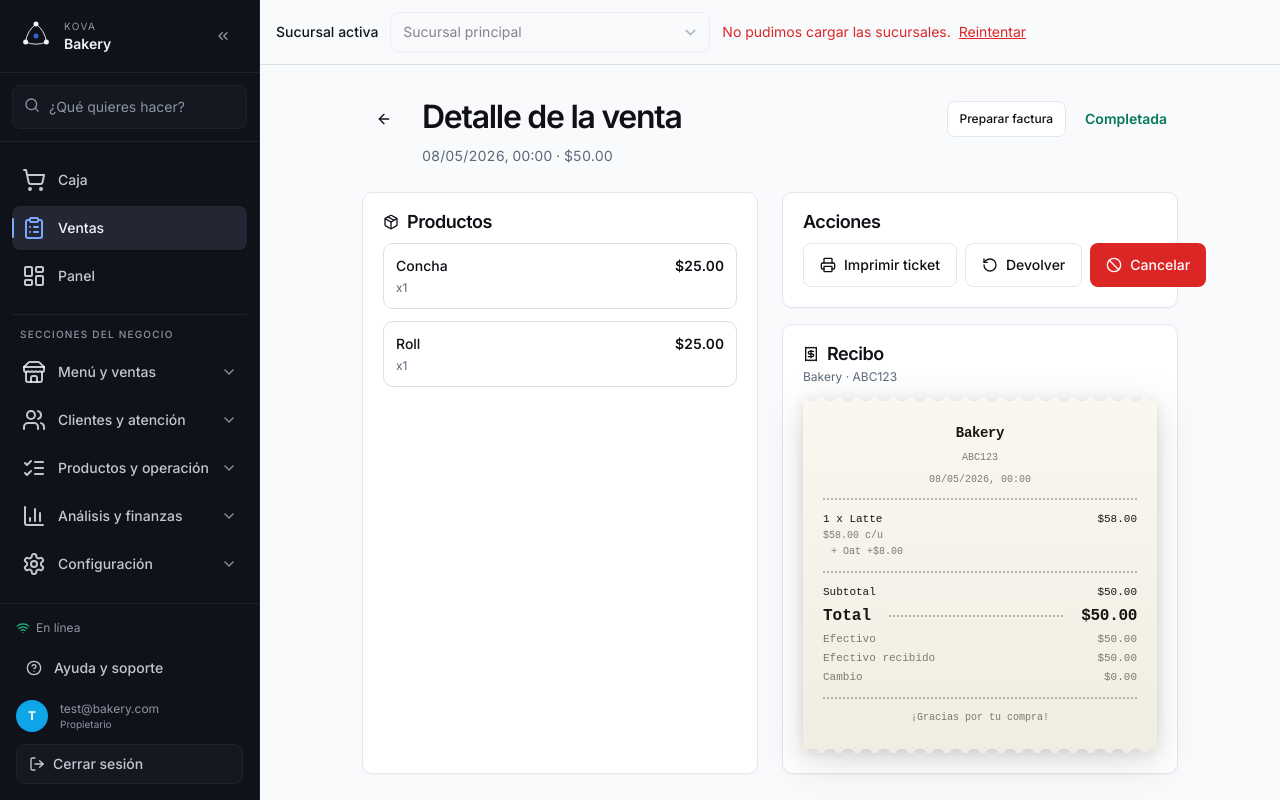
Scenario: OrderDetail › submits a refund and reloads the receipt
Click the button "Devolver": coordinates (1024, 265) [965,243,1082,287]
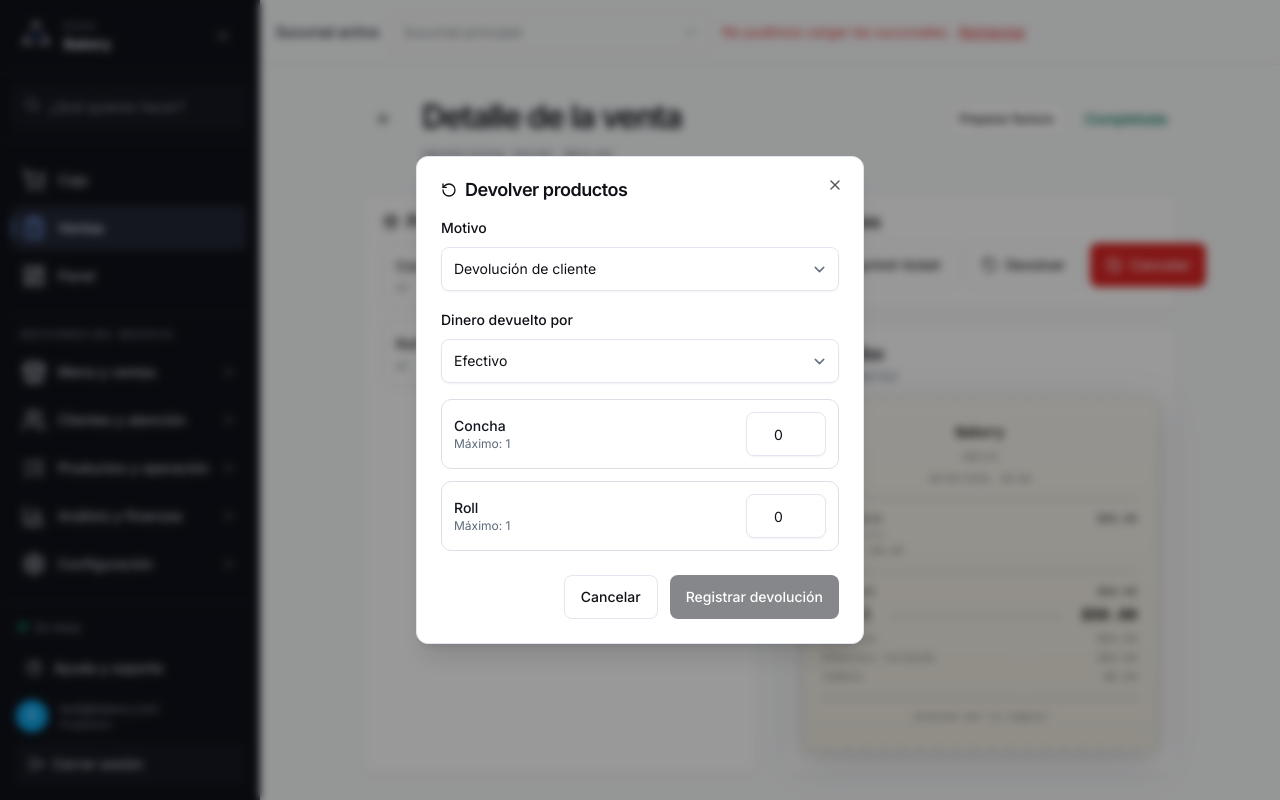
Replace the text in the number field named "Concha Cantidad" with "1": coordinates (786, 434) [746,412,826,456]
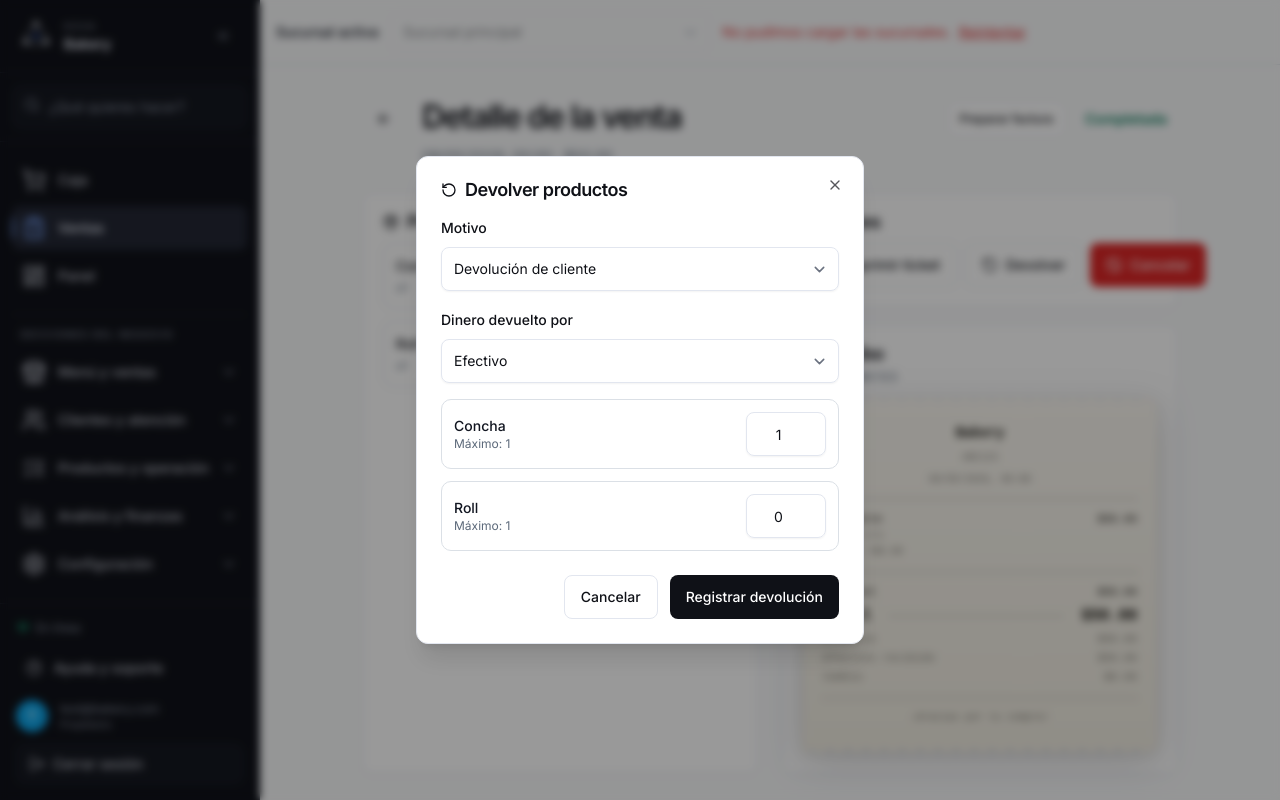
Click the button "Registrar devolución": coordinates (754, 597) [670,575,839,619]
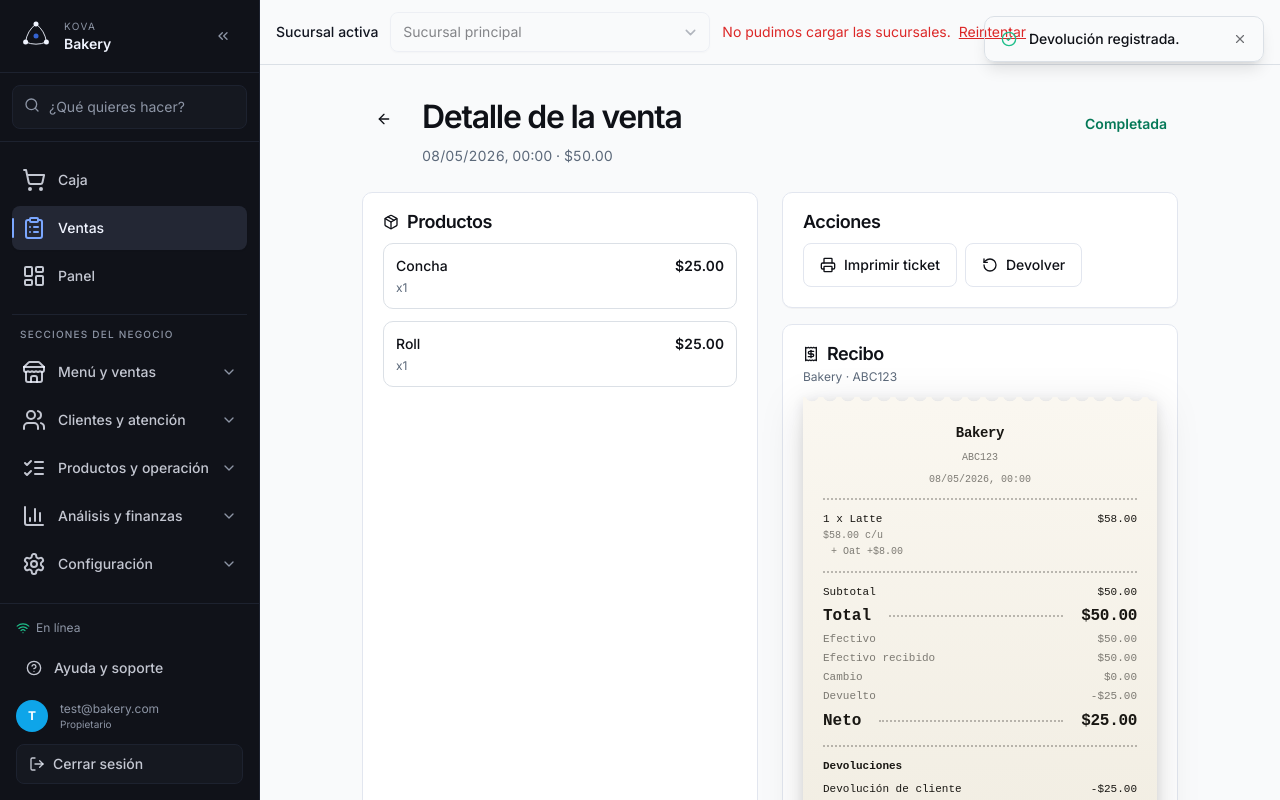
Check: the text "Devolución registrada." is shown, box [1029,30,1180,47]
